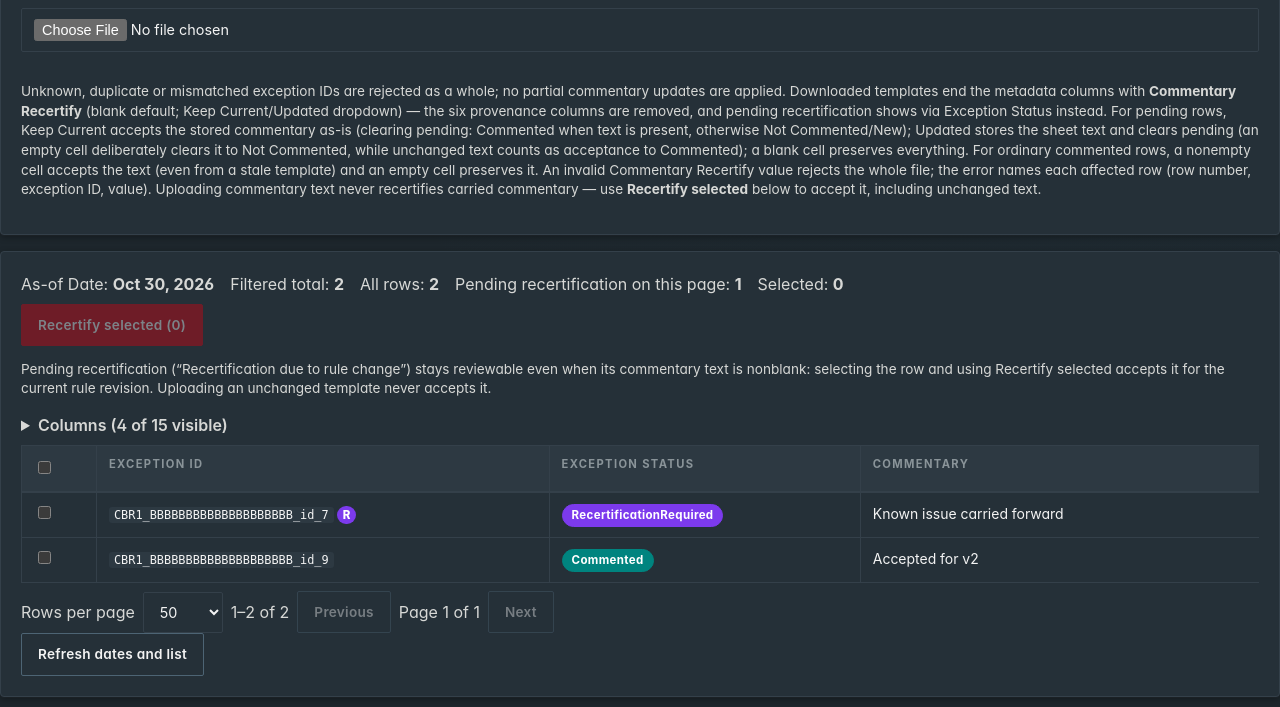
Test: ExceptionTrackingPage recertification › reports already-accepted repeats without losing them
(page scrolled)
Click the checkbox named "Select exception CBR1_BBBBBBBBBBBBBBBBBBBB_id_7": (44, 512) [38, 506, 51, 518]
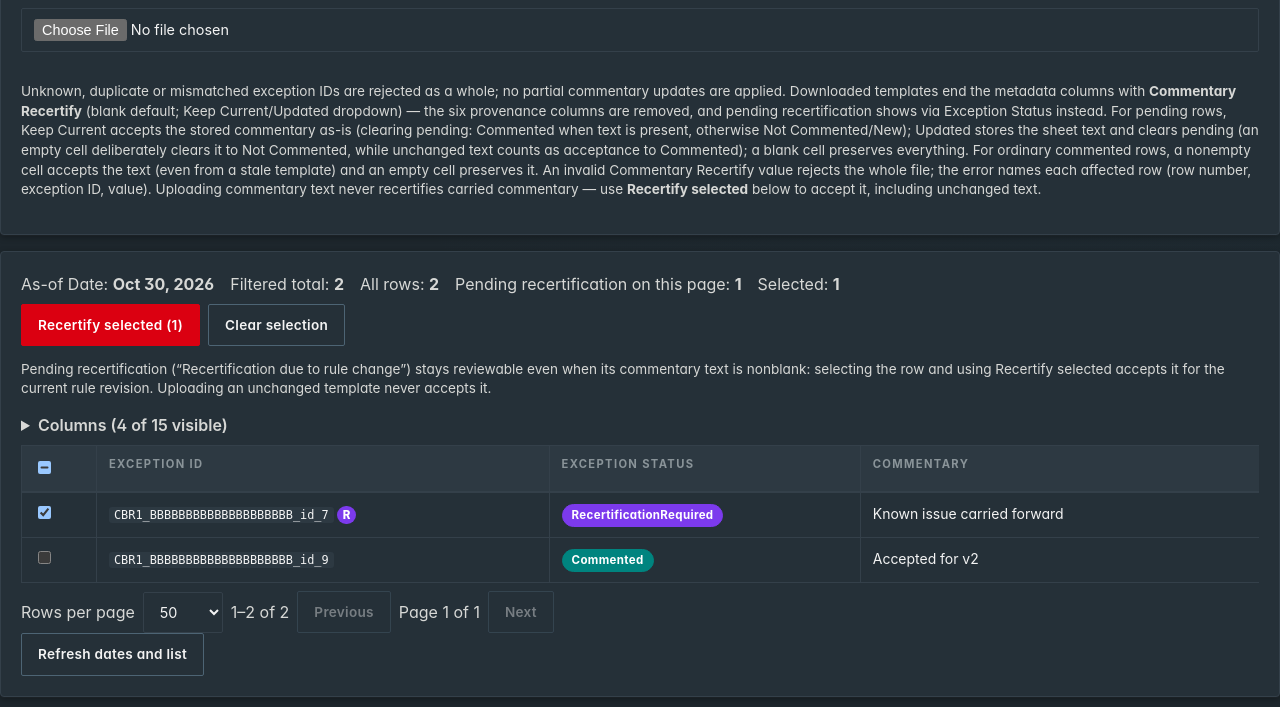
Click the button "Recertify selected (1)": (111, 325) [21, 304, 200, 346]
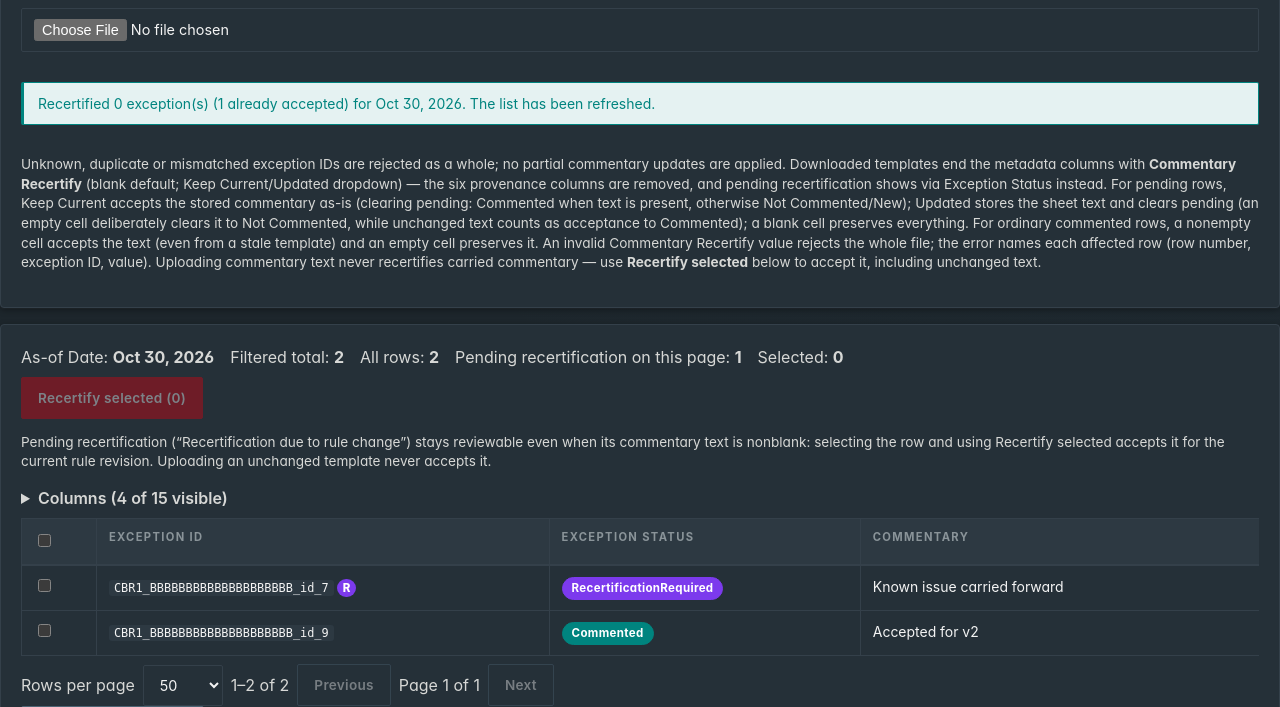
Now the text "0 exception(s) (1 already accepted)" is shown, box [38, 95, 655, 112]
